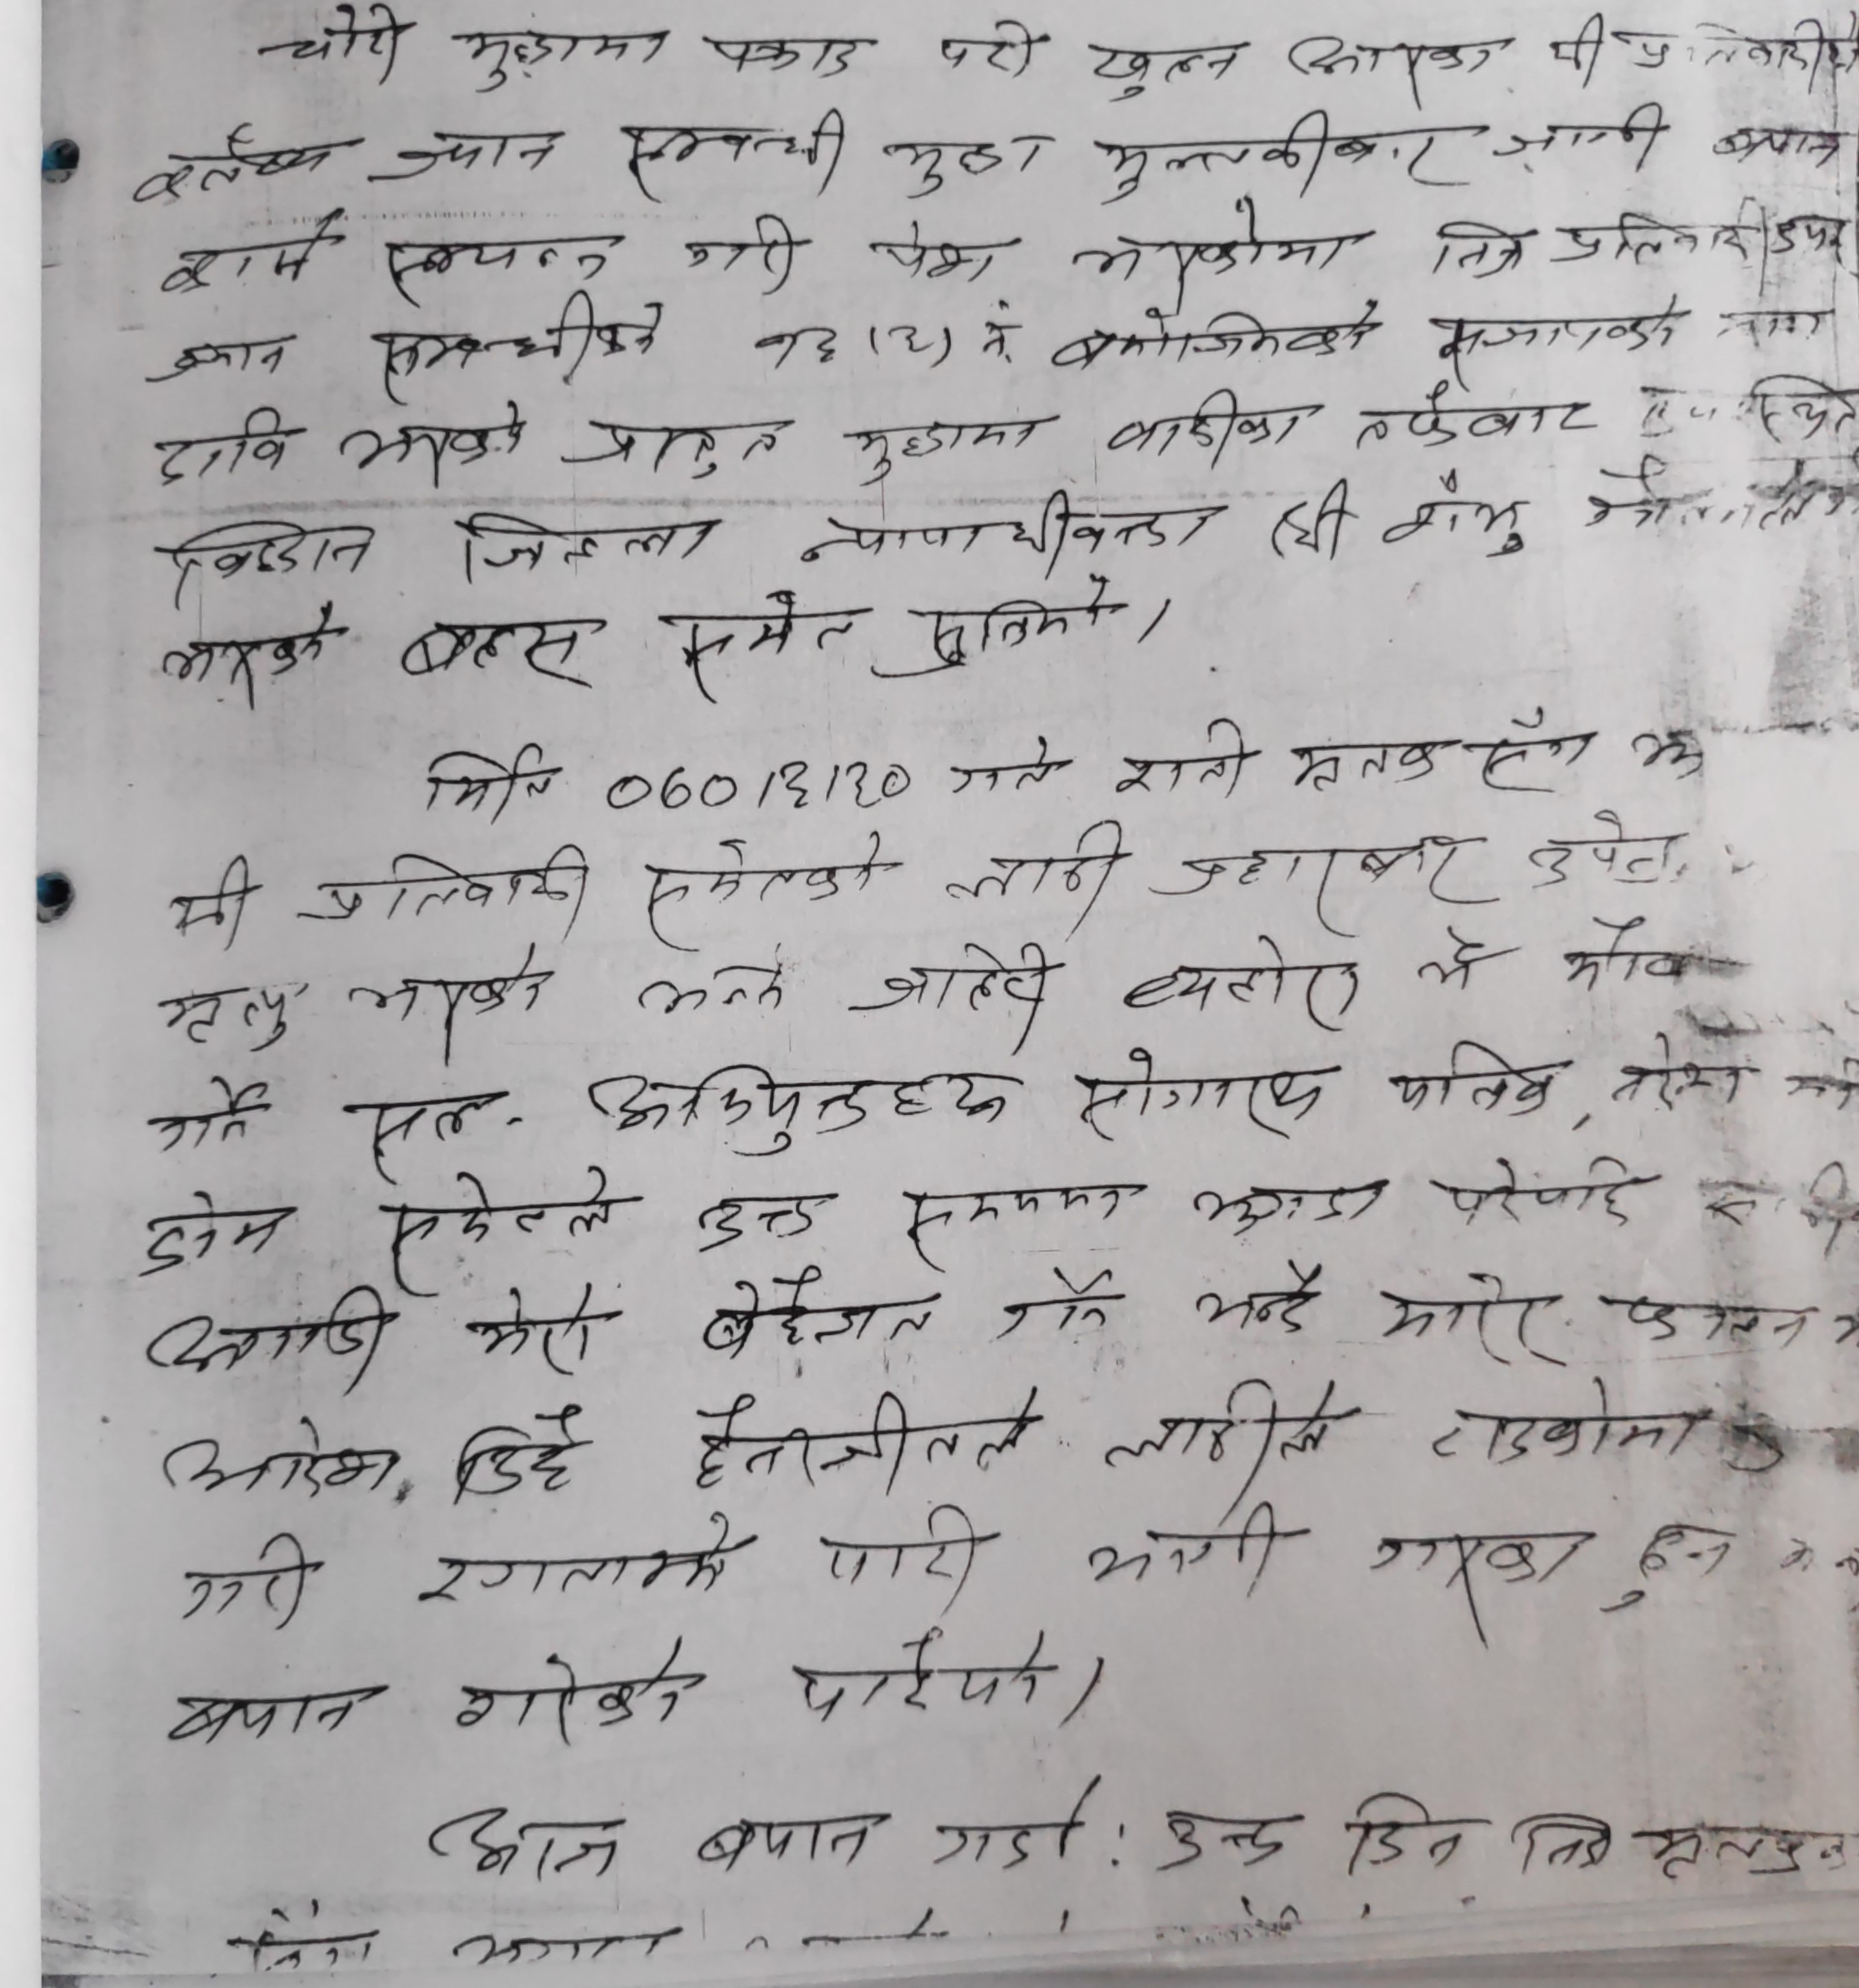text: (582, 1055, 1015, 1158), (690, 1382, 1040, 1499), (1090, 105, 1466, 201), (793, 482, 1223, 566), (412, 1508, 741, 1605), (1157, 832, 1504, 922), (370, 285, 666, 390), (140, 1280, 398, 1398), (636, 826, 884, 942), (379, 1162, 627, 1275), (1365, 1525, 1585, 1649), (889, 571, 1116, 688), (1048, 295, 1382, 374), (786, 1623, 1048, 1722), (1118, 929, 1363, 1036), (1094, 1371, 1337, 1478), (1424, 1373, 1705, 1464), (1076, 1045, 1330, 1142), (449, 1642, 685, 1743), (1076, 199, 1354, 285), (306, 842, 594, 924), (344, 940, 552, 1048), (1424, 286, 1681, 374), (673, 587, 863, 704), (615, 108, 851, 199), (701, 1268, 931, 1359), (161, 1413, 400, 1501), (161, 597, 339, 714), (842, 940, 1050, 1039), (440, 508, 718, 582), (929, 1770, 1102, 1885), (1382, 1267, 1567, 1373), (599, 753, 916, 814), (1082, 1501, 1275, 1600), (940, 814, 1129, 915), (1551, 190, 1770, 274), (895, 1179, 1122, 1260), (1429, 1149, 1635, 1237), (1352, 379, 1600, 451), (339, 395, 524, 487), (561, 414, 786, 489), (1620, 9, 1859, 79), (128, 128, 339, 206), (397, 617, 610, 694), (154, 519, 376, 592), (426, 1805, 627, 1885), (1284, 28, 1497, 103), (814, 1499, 980, 1595), (1101, 384, 1302, 463), (446, 1398, 591, 1504), (1379, 463, 1531, 564), (456, 24, 671, 94), (372, 227, 615, 288), (1386, 1036, 1560, 1120), (839, 412, 1034, 486), (140, 1186, 287, 1284), (1632, 1819, 1852, 1883), (1602, 1516, 1737, 1621), (173, 1532, 314, 1628), (463, 1280, 606, 1375), (159, 218, 325, 299), (252, 2, 407, 86), (699, 1805, 884, 1874), (1613, 1291, 1812, 1356), (418, 737, 561, 826), (161, 1686, 376, 1745), (1342, 1787, 1473, 1880), (1111, 713, 1249, 800), (1499, 101, 1669, 171), (1600, 1029, 1747, 1109), (1531, 809, 1672, 891), (1478, 702, 1599, 798), (1150, 1799, 1293, 1880), (154, 404, 290, 487), (149, 978, 290, 1057), (374, 124, 559, 183), (881, 131, 1048, 196), (1190, 1256, 1324, 1336), (1192, 1181, 1391, 1235), (992, 1258, 1118, 1343), (356, 1090, 505, 1162), (678, 210, 800, 295), (143, 1069, 267, 1153), (1557, 912, 1686, 992), (1279, 734, 1443, 795), (1088, 37, 1242, 101), (634, 959, 790, 1020), (166, 854, 267, 945), (699, 28, 867, 80), (943, 735, 1062, 809), (872, 222, 999, 288), (697, 1190, 825, 1254), (1270, 475, 1358, 568), (1513, 1806, 1621, 1880), (143, 334, 290, 386), (938, 17, 1040, 80), (1709, 126, 1849, 171), (1429, 217, 1532, 278), (1413, 928, 1497, 997), (750, 316, 844, 376), (1546, 12, 1613, 77), (973, 300, 1029, 363), (889, 320, 928, 365)
